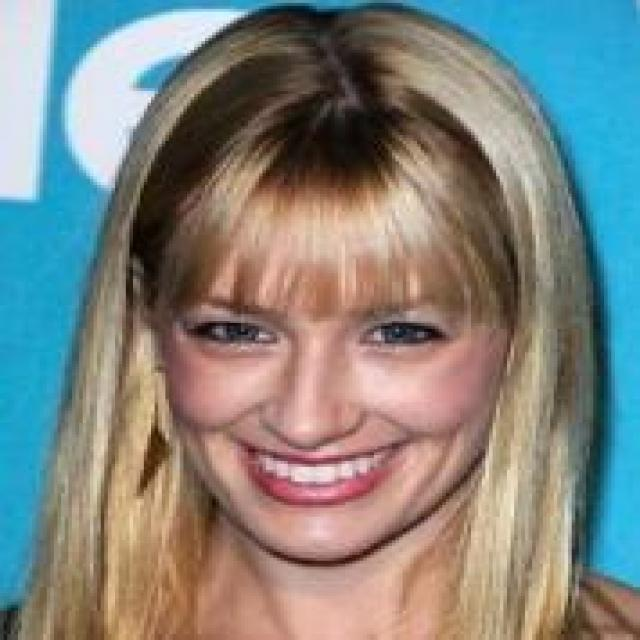nomask: (65, 65, 590, 593)
